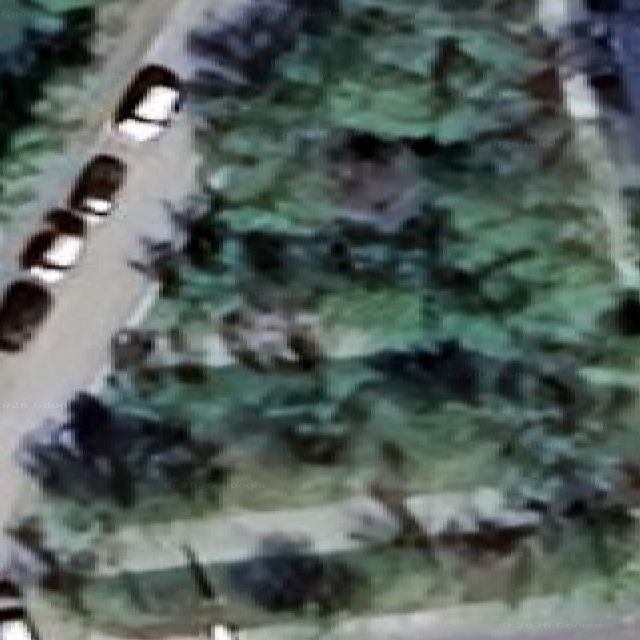car: (13, 392, 227, 507), (187, 0, 337, 95), (564, 0, 639, 163), (226, 532, 366, 615), (188, 2, 300, 83), (13, 420, 87, 492), (115, 64, 179, 141), (20, 208, 84, 283), (188, 27, 276, 81), (67, 155, 124, 223), (0, 280, 51, 351), (188, 23, 247, 64), (0, 580, 37, 639), (111, 327, 156, 368), (187, 68, 251, 96), (186, 553, 216, 600), (0, 608, 37, 639), (0, 575, 20, 602), (206, 623, 239, 639), (88, 456, 103, 473), (91, 484, 100, 488), (105, 467, 108, 472), (51, 566, 55, 568)
